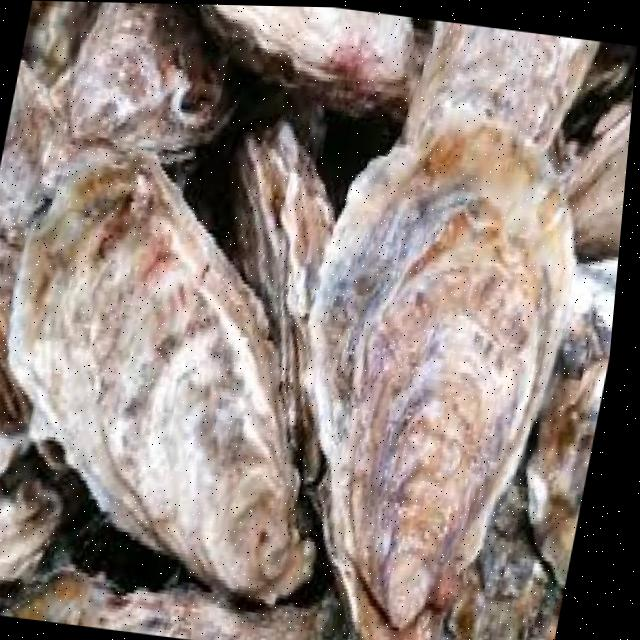Oyster-Closed: (225, 122, 335, 494), (196, 4, 432, 124), (0, 463, 63, 593), (24, 1, 113, 77), (0, 242, 28, 420)
Oyster-Indeterminate: (6, 141, 319, 609), (307, 120, 577, 632), (400, 19, 614, 164), (67, 2, 226, 181), (528, 88, 633, 257), (0, 57, 74, 253)
